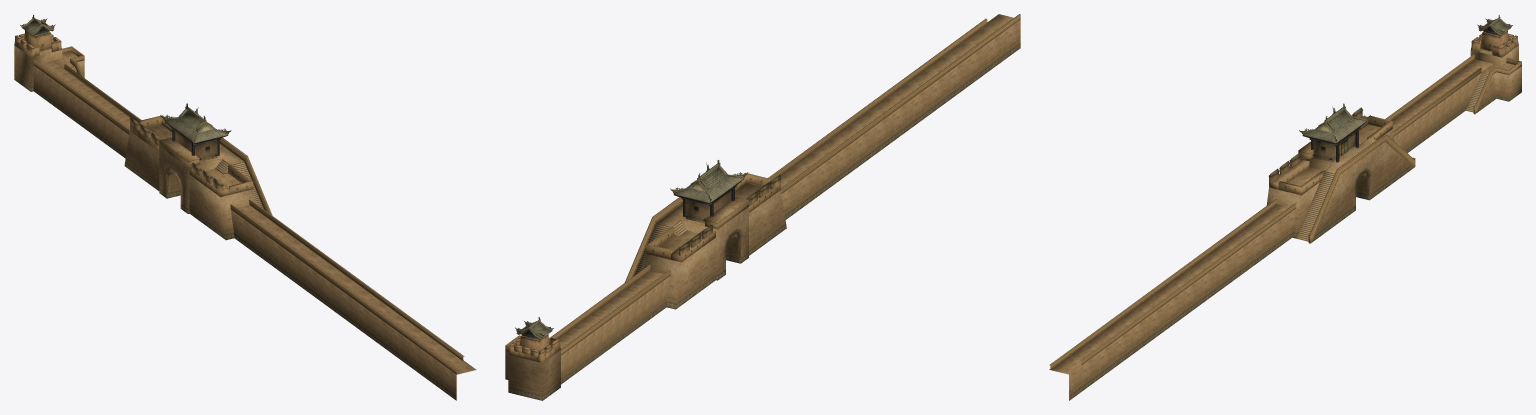
File: w_cd_eastwa_w.glb
3 views of the same model, side by side, from view 1: azimuth 30°, elevation 25°; view 2: azimuth 150°, elevation 25°; view 3: azimuth 330°, elevation 25° (orthographic). The views are drawn at different scales.
Visible parts, largest first — view 1: w_cd_eastwa_w_wall01, w_cd_eastwa_w_wall03, w_cd_eastwa_w_roof, w_cd_eastwa_w_wall02; view 2: w_cd_eastwa_w_wall01, w_cd_eastwa_w_wall03, w_cd_eastwa_w_roof, w_cd_eastwa_w_wall02; view 3: w_cd_eastwa_w_wall01, w_cd_eastwa_w_wall03, w_cd_eastwa_w_roof, w_cd_eastwa_w_wall02.
Boxes of the visible parts, x1=… form: w_cd_eastwa_w_wall01: x1=14, y1=45, x2=476, y2=400; w_cd_eastwa_w_wall03: x1=14, y1=30, x2=464, y2=374; w_cd_eastwa_w_roof: x1=21, y1=17, x2=228, y2=159; w_cd_eastwa_w_wall02: x1=172, y1=129, x2=219, y2=161; w_cd_eastwa_w_wall01: x1=505, y1=14, x2=1020, y2=400; w_cd_eastwa_w_wall03: x1=505, y1=14, x2=1020, y2=362; w_cd_eastwa_w_roof: x1=516, y1=163, x2=744, y2=340; w_cd_eastwa_w_wall02: x1=683, y1=187, x2=734, y2=223; w_cd_eastwa_w_wall01: x1=1049, y1=45, x2=1521, y2=400; w_cd_eastwa_w_wall03: x1=1049, y1=30, x2=1521, y2=369; w_cd_eastwa_w_roof: x1=1302, y1=17, x2=1511, y2=159; w_cd_eastwa_w_wall02: x1=1311, y1=129, x2=1358, y2=162.
Size of the model in its own units: 19.24 by 30.52 by 274.
Materials: 6 (6 with a texture image).
